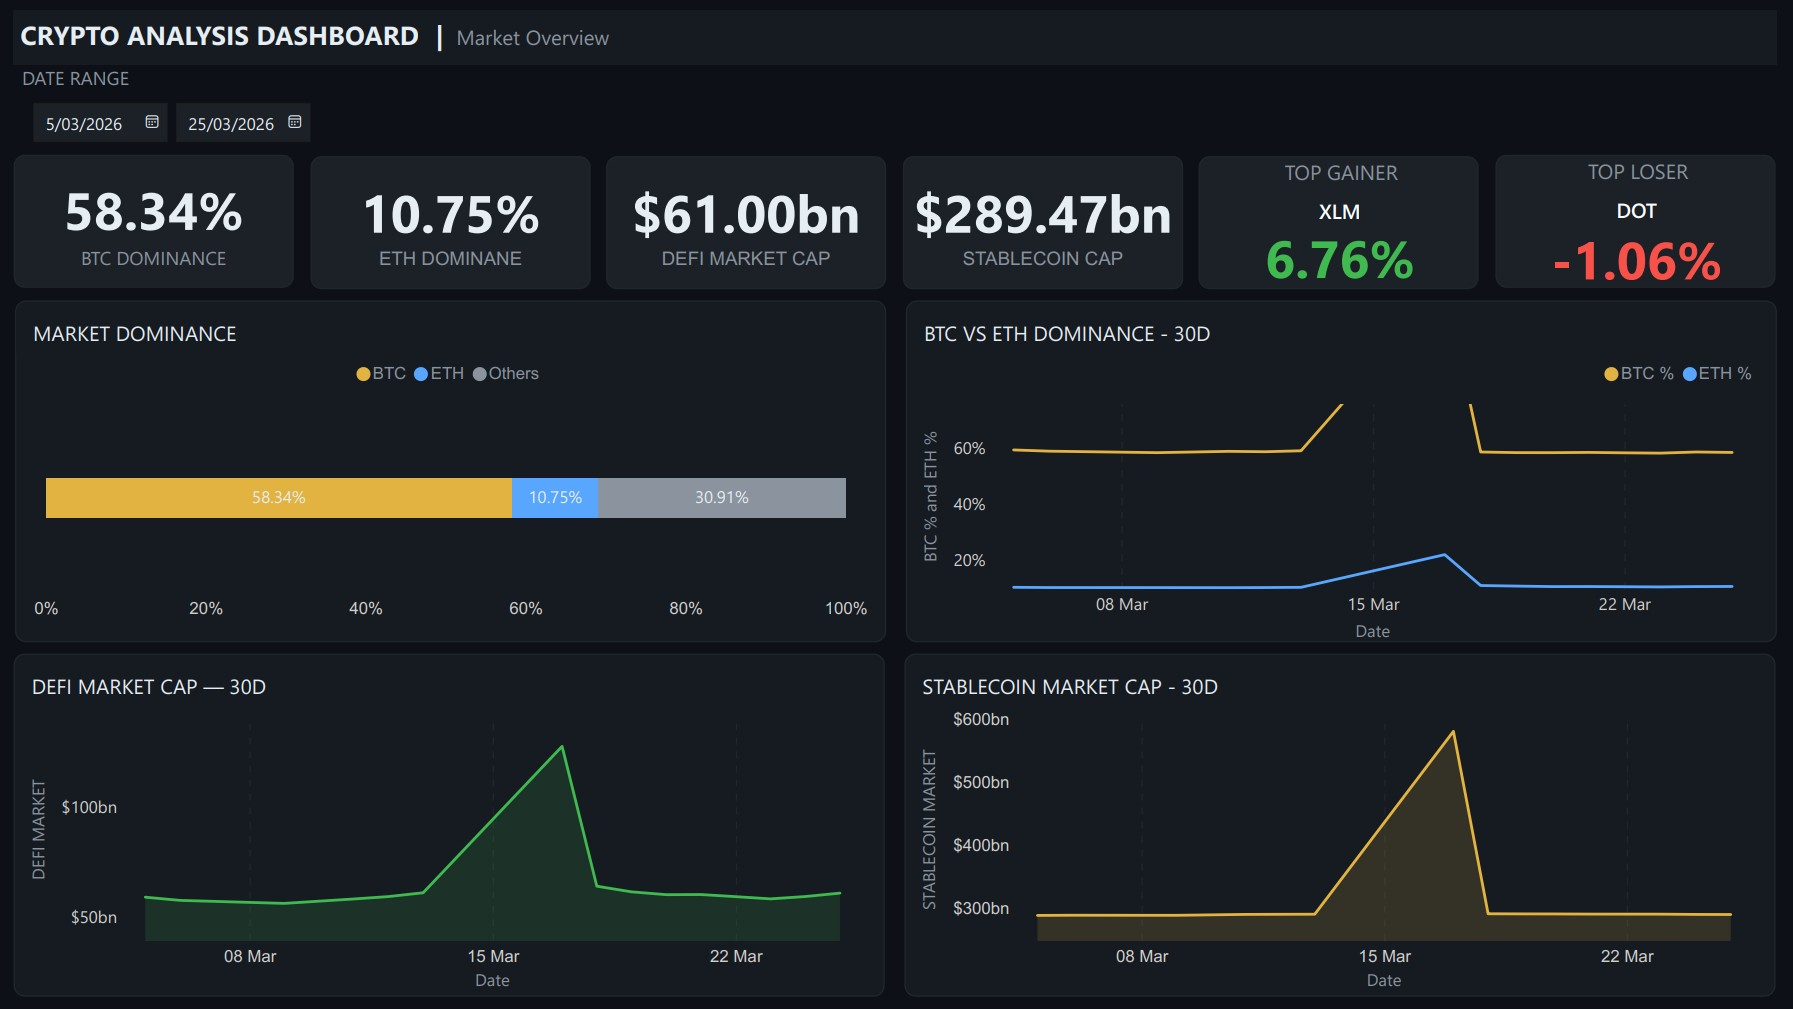

This screenshot's page, from the dashboard's own definition file:
{"tool":"powerbi","page":{"name":"Market Overview","canvas":[1280,720],"ordinal":0},"visuals":[{"type":"slicer","title":"DATE RANGE","fields":{"Values":["dim_date.Date"]},"box":[11,46,1258,63],"z":0},{"type":"card","fields":{"Values":["_Measures.Latest BTC Dominance"]},"box":[10,110,200,95],"z":1000},{"type":"hundredPercentStackedBarChart","title":"MARKET DOMINANCE","fields":{"Y":["_Measures.BTC Dominance Chart","_Measures.ETH Dominance Chart","_Measures.Others Dominance1"]},"box":[11,214,622,244],"z":2000},{"type":"card","fields":{"Values":["_Measures.Latest ETH Dominance"]},"box":[221.6,111.3,200,94.3],"z":3000},{"type":"card","fields":{"Values":["_Measures.Latest DeFi Market Cap"]},"box":[433.2,111.3,200,94.3],"z":4000},{"type":"card","fields":{"Values":["_Measures.Latest Stablecoin Cap"]},"box":[644.8,111.3,200,94.3],"z":5000},{"type":"lineChart","title":"BTC VS ETH DOMINANCE - 30D","fields":{"Category":["dim_date.Date"],"Y":["Sum(fact_global_market.global_btc_dominance)","Sum(fact_global_market.global_eth_dominance)"]},"box":[647,214,622,244],"z":6000},{"type":"areaChart","title":"DEFI MARKET CAP — 30D","fields":{"Category":["dim_date.Date"],"Y":["Sum(fact_global_market.global_defi_market_cap)"]},"box":[10,466,622,245],"z":7000},{"type":"areaChart","title":"STABLECOIN MARKET CAP - 30D","fields":{"Y":["Sum(fact_global_market.global_stablecoin_market_cap)"],"Category":["dim_date.Date"]},"box":[646,466,622,245],"z":8000},{"type":"cardVisual","title":"TOP GAINER","fields":{"Data":["_Measures.Top Performer Symbol","_Measures.Top Performer 24H"]},"box":[856.4,111.3,200,94.3],"z":9000},{"type":"cardVisual","title":"TOP LOSER","fields":{"Data":["_Measures.Worst Performer Symbol","_Measures.Worst Performer 24H"]},"box":[1068,110,200,95],"z":10000},{"type":"textbox","box":[10,7,1259,39],"z":11000}]}

Visuals, with their boxes in screenshot pixels (x1, y1, x2, y2), scaled from the page's 1280x720 canvas onto the 1793x1009 screenshot:
"DATE RANGE" slicer: box(15, 64, 1778, 153)
card - _Measures.Latest BTC Dominance: box(14, 154, 294, 287)
"MARKET DOMINANCE" hundredPercentStackedBarChart: box(15, 300, 887, 642)
card - _Measures.Latest ETH Dominance: box(310, 156, 591, 288)
card - _Measures.Latest DeFi Market Cap: box(607, 156, 887, 288)
card - _Measures.Latest Stablecoin Cap: box(903, 156, 1183, 288)
"BTC VS ETH DOMINANCE - 30D" lineChart: box(906, 300, 1778, 642)
"DEFI MARKET CAP — 30D" areaChart: box(14, 653, 885, 996)
"STABLECOIN MARKET CAP - 30D" areaChart: box(905, 653, 1776, 996)
"TOP GAINER" cardVisual: box(1200, 156, 1480, 288)
"TOP LOSER" cardVisual: box(1496, 154, 1776, 287)
textbox: box(14, 10, 1778, 64)
